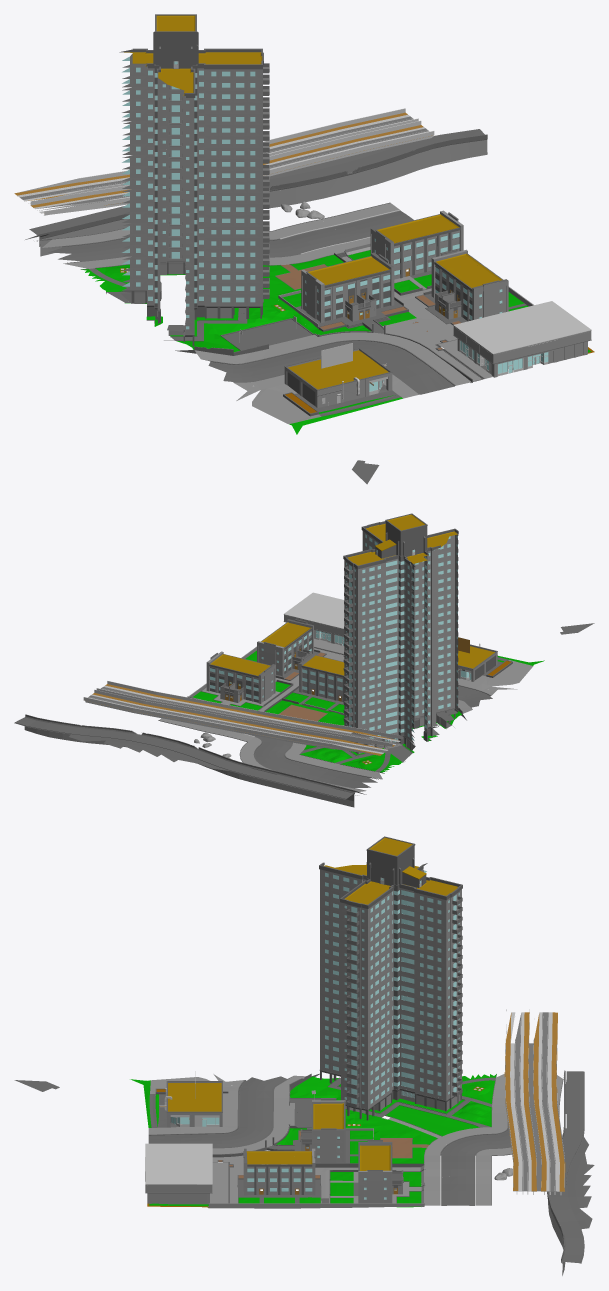
Rendered from bronx_e2_2.FBX.
3 renders of one model, top to bottom at view 1: azimuth 30°, elevation 25°; view 2: azimuth 150°, elevation 25°; view 3: azimuth 270°, elevation 25°, orthographic. The views are drawn at different scales.
Visible parts, largest first — view 1: unnamed, null; view 2: unnamed, null; view 3: unnamed, null.
Part boxes in pixels (x1=…): unnamed: x1=14, y1=108, x2=594, y2=484; null: x1=119, y1=14, x2=269, y2=227; unnamed: x1=14, y1=592, x2=594, y2=807; null: x1=343, y1=513, x2=458, y2=665; unnamed: x1=14, y1=974, x2=594, y2=1275; null: x1=319, y1=836, x2=462, y2=1022.
Bounding box in the file's own units: 167 × 102 × 206.
